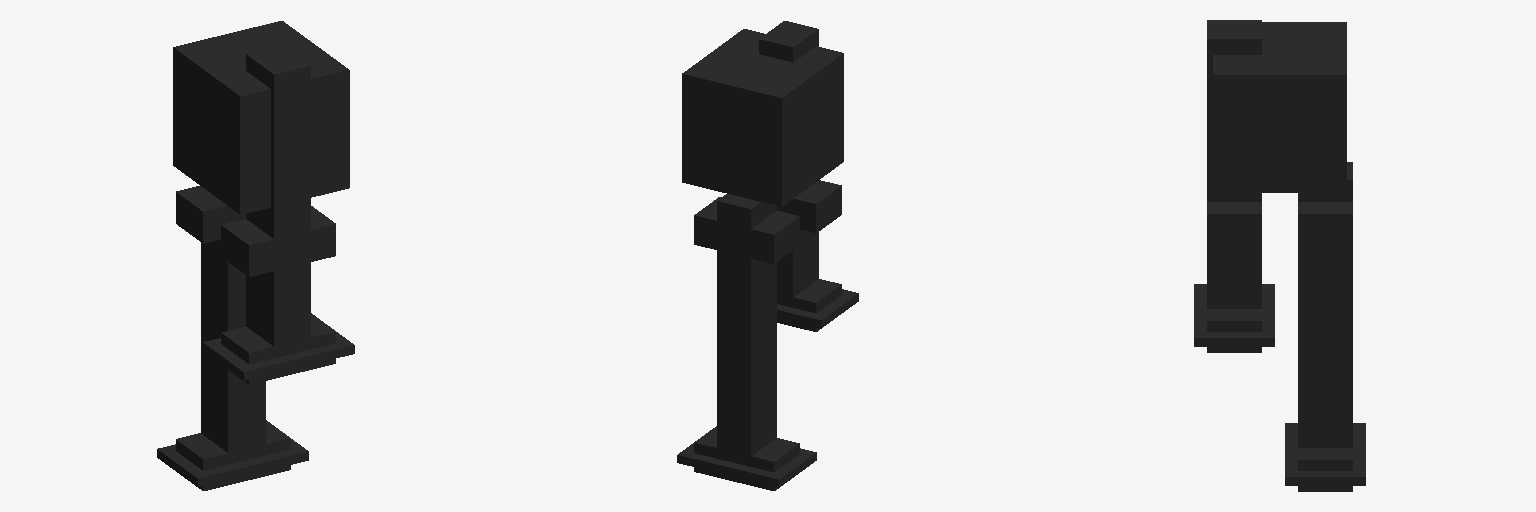
robot.urdf — darwinOP:
<?xml version="1.0" ?>
<robot name="darwinOP">
<link name="base_link"/>
  
  <joint name="base_link_to_body" type="fixed">
    <parent link="base_link"/>
    <child link="MP_BODY"/>
  </joint>



  <link name="MP_BODY">
    <inertial>
      <origin xyz="-0.003053 -0.038651 -0.019268" />
      <mass value="0.97559947"/>
      <inertia ixx="3.1081800"  ixy="-0.25460189"  ixz="2.0318174" iyy="6.3787776" iyz="0.16417863" izz="5.3316425" />
    </inertial>
    <visual>
      <!--origin xyz="-0.0235 0 -0.03525" rpy="0 0 0" /-->
      <origin xyz="0 0 0" rpy="0 0 0" />
      <geometry>
        <box size="0.102 0.109 0.106" />
      </geometry>
      <material name="Grey">
        <color rgba="0.20 0.20 0.20 1.0"/>
      </material>
    </visual>
    <collision>
      <geometry>
        <box size="0.102 0.109 0.106" />
      </geometry>
    </collision>
  </link>
  <link name="MP_PELVIS_L" >
    <inertial>
      <origin xyz="0.000000 0.000480 0.018437" />
      <mass value="0.167"/>
      <inertia ixx="0.12259691"  ixy="0.00071127469"  ixz="0.00081143913" iyx="0.00071127469" iyy="0.11066637" iyz="-0.0071635476" izx="0.00081143913" izy="-0.0071635476" izz="0.041877668" />
    </inertial>
    <visual>
      <origin xyz="0 0 0" rpy="0 0 0" />
      <geometry>
        <box size="0.045 0.08175 0.028652"/>
      </geometry>
      <material name="Grey">
        <color rgba="0.20 0.20 0.20 1.0"/>
      </material>
    </visual>
    <collision>
      <geometry>
        <box size="0.045 0.08175 0.028652"/>
      </geometry>
    </collision>
  </link>

  <link name="MP_THIGH1_L" >
    <inertial>
      <origin xyz="0.000079 0.018242 0.013873" />
      <mass value="0.11904336"/>
      <inertia ixx="0.097950272"  ixy="0.0012119368"  ixz="-0.00021223016" iyx="0.00122119368" iyy="0.032848287" iyz="-0.0019474021" izx="-0.00021223016" izy="-0.0019474021" izz="0.11493509" />
    </inertial>
    <visual>
      <origin xyz="0 0 0" rpy="0 0 0" />
      <geometry>
        <box size="0.001 0.001 0.001"/>
      </geometry>
      <material name="Grey">
        <color rgba="0.20 0.20 0.20 1.0"/>
      </material>
    </visual>
    <collision>
      <geometry>
        <box size="0.001 0.001 0.001"/>
      </geometry>
    </collision>
  </link>

  <link name="MP_THIGH2_L" >
    <inertial>
      <origin xyz="-0.062965 -0.000323 0.000692" />
      <mass value="0.11904336"/>
      <inertia ixx="0.097950272"  ixy="0.0012119368"  ixz="-0.00021223016" iyx="0.00122119368" iyy="0.032848287" iyz="-0.0019474021" izx="-0.00021223016" izy="-0.0019474021" izz="0.11493509" />
    </inertial>
    <visual>
      <origin xyz="0 0 0" rpy="0 0 0" />
      <geometry>
        <box size="0.125 0.035 0.045"/>
      </geometry>
      <material name="Grey">
        <color rgba="0.20 0.20 0.20 1.0"/>
      </material>
    </visual>
    <collision>
      <geometry>
        <box size="0.125 0.035 0.045"/>
      </geometry>
    </collision>
  </link>

  <link name="MP_TIBIA_L" >
    <inertial>
      <origin xyz="-0.053955 0.006548 -0.000592" />
      <mass value="0.070309794"/>
      <inertia ixx="0.093369608"  ixy="-0.00093567395"  ixz="-0.00023992085" iyx="-0.00093567395" iyy="0.046295534" iyz="-0.012858493" izx="-0.00023992085" izy="-0.012858493" izz="0.11351516" />
    </inertial>
    <visual>
      <origin xyz="-0.0625 0 0" rpy="0 0 0" />
      <geometry>
        <box size="0.130 0.035 0.045"/>
      </geometry>
      <material name="Grey">
        <color rgba="0.20 0.20 0.20 1.0"/>
      </material>
    </visual>
    <collision>
      <origin xyz="-0.0625 0 0" rpy="0 0 0" />
      <geometry>
        <box size="0.130 0.035 0.045"/>
      </geometry>
    </collision>
  </link>

  <link name="MP_ANKLE1_L" >
    <inertial>
      <origin xyz="-0.000214 -0.018536 0.013873" />
      <mass value="0.16710792"/>
      <inertia ixx="0.12079175"  ixy="-0.00079781067"  ixz="-0.00039322246" iyx="-0.00079781067" iyy="0.10885465" iyz="0.0070770117" izx="-0.00039322246" izy="0.0070770117" izz="0.041871103" />
    </inertial>
    <visual>
      <origin xyz="0 0 0" rpy="0 0 0" />
      <geometry>
        <box size="0.028652 0.08175 0.045"/>
      </geometry>
      <material name="Grey">
        <color rgba="0.20 0.20 0.20 1.0"/>
      </material>
    </visual>
    <collision>
      <geometry>
        <box size="0.028652 0.08175 0.045"/>
      </geometry>
    </collision>
  </link>

  <link name="MP_ANKLE2_L" >
    <inertial>
      <origin xyz="-0.025995 -0.009506 -0.000503" />
      <mass value="0.0794462"/>
      <inertia ixx="0.12079175"  ixy="-0.00079781067"  ixz="-0.00039322246" iyx="-0.00079781067" iyy="0.10885465" iyz="0.0070770117" izx="-0.00039322246" izy="0.0070770117" izz="0.041871103" />
    </inertial>
    <visual>
      <origin xyz="0 0 0" rpy="0 0 0" />
      <geometry>
        <box size="0.008 0.066 0.104"/>
      </geometry>
      <material name="Grey">
        <color rgba="0.20 0.20 0.20 1.0"/>
      </material>
    </visual>
    <collision>
      <geometry>
        <box size="0.008 0.066 0.104"/>
      </geometry>
    </collision>
  </link>

  <link name="MP_PELVIS_R" >
    <inertial>
      <origin xyz="0.000000 0.000480 0.018437" />
      <mass value="0.197"/>
      <inertia ixx="0.12259691"  ixy="0.00071127469"  ixz="0.00081143913" iyx="0.00071127469" iyy="0.11066637" iyz="-0.0071635476" izx="0.00081143913" izy="-0.0071635476" izz="0.041877668" />
    </inertial>
    <visual>
      <origin xyz="0 0 0" rpy="0 0 0" />
      <geometry>
        <box size="0.045 0.08175 0.028652" />
      </geometry>
      <material name="Grey">
        <color rgba="0.20 0.20 0.20 1.0"/>
      </material>
    </visual>
    <collision>
      <geometry>
        <box size="0.045 0.08175 0.028652" />
      </geometry>
    </collision>
  </link>

  <link name="MP_THIGH1_R" >
    <inertial>
      <origin xyz="0.000079 -0.018242 0.0138735" />
      <mass value="0.11904336"/>
      <inertia ixx="0.097950272"  ixy="0.0012119368"  ixz="-0.00021223016" iyx="0.00122119368" iyy="0.032848287" iyz="-0.0019474021" izx="-0.00021223016" izy="-0.0019474021" izz="0.11493509" />
    </inertial>
    <visual>
      <origin xyz="0 0 0" rpy="0 0 0" />
      <geometry>
        <box size="0.001 0.001 0.001"/>
      </geometry>
      <material name="Grey">
        <color rgba="0.20 0.20 0.20 1.0"/>
      </material>
    </visual>
    <collision>
      <geometry>
        <box size="0.001 0.001 0.001"/>
      </geometry>
    </collision>

  </link>

  <link name="MP_THIGH2_R" >
    <inertial>
      <origin xyz="0.062965 -0.000323 0.000692" />
      <mass value="0.11904336"/>
      <inertia ixx="0.097950272"  ixy="0.0012119368"  ixz="-0.00021223016" iyx="0.00122119368" iyy="0.032848287" iyz="-0.0019474021" izx="-0.00021223016" izy="-0.0019474021" izz="0.11493509" />
    </inertial>
    <visual>
      <origin xyz="0 0 0" rpy="0 0 0" />
      <geometry>
        <box size="0.125 0.035 0.045"/>
      </geometry>
      <material name="Grey">
        <color rgba="0.20 0.20 0.20 1.0"/>
      </material>
    </visual>
    <collision>
      <geometry>
        <box size="0.125 0.035 0.045"/>
      </geometry>
    </collision>

  </link>

  <link name="MP_TIBIA_R" >
    <inertial>
      <origin xyz="0.053955 0.006548 -0.000592" />
      <mass value="0.070309794"/>
      <inertia ixx="0.093369608"  ixy="-0.00093567395"  ixz="-0.00023992085" iyx="-0.00093567395" iyy="0.046295534" iyz="-0.012858493" izx="-0.00023992085" izy="-0.012858493" izz="0.11351516" />
    </inertial>
    <visual>
      <origin xyz="-0.0625 0 0" rpy="0 0 0" />
      <geometry>
        <box size="0.130 0.035 0.045"/>
      </geometry>
      <material name="Grey">
        <color rgba="0.20 0.20 0.20 1.0"/>
      </material>
    </visual>
    <collision>
    <origin xyz="-0.0625 0 0" rpy="0 0 0" />
      <geometry>
        <box size="0.130 0.035 0.045"/>
      </geometry>
    </collision>

  </link>

  <link name="MP_ANKLE1_R" >
    <inertial>
      <origin xyz="-0.000214 -0.018536 -0.013873" />
      <mass value="0.16710792"/>
      <inertia ixx="0.12079175"  ixy="-0.00079781067"  ixz="-0.00039322246" iyx="-0.00079781067" iyy="0.10885465" iyz="0.0070770117" izx="-0.00039322246" izy="0.0070770117" izz="0.041871103" />
    </inertial>
    <visual>
      <origin xyz="0 0 0" rpy="0 0 0" />
      <geometry>
        <box size="0.028652 0.08175 0.045"/>
      </geometry>
      <material name="Grey">
        <color rgba="0.20 0.20 0.20 1.0"/>
      </material>
    </visual>
    <collision>
      <geometry>
        <box size="0.028652 0.08175 0.045"/>
      </geometry>
    </collision>

  </link>

  <link name="MP_ANKLE2_R" >
    <inertial>
      <origin xyz="0.025995 -0.009506 -0.000503" />
      <mass value="0.0794462"/>
      <inertia ixx="0.12079175"  ixy="-0.00079781067"  ixz="-0.00039322246" iyx="-0.00079781067" iyy="0.10885465" iyz="0.0070770117" izx="-0.00039322246" izy="0.0070770117" izz="0.041871103" />
    </inertial>
    <visual>
      <origin xyz="0 0 0" rpy="0 0 0" />
      <geometry>
        <box size="0.008 0.066 0.104"/>
      </geometry>
      <material name="Grey">
        <color rgba="0.20 0.20 0.20 1.0"/>
      </material>
    </visual>
    <collision>
      <geometry>
        <box size="0.008 0.066 0.104"/>
      </geometry>
    </collision>

  </link>
  
  <joint name="j_pelvis_l" type="revolute">
    <parent link="MP_BODY"/>
    <child link="MP_PELVIS_L"/>
    <origin xyz="-0.005 0.037 -0.09355" rpy="0 3.14159 -1.5707963" />
    <axis xyz="0 0 1" />
    <limit effort="10" velocity="5.6548668" lower="-2.6179939" upper="2.6179939" />
  </joint>
    <joint name="j_thigh1_l" type="revolute">
    <parent link="MP_PELVIS_L"/>
    <child link="MP_THIGH1_L"/>
    <origin xyz="0 0 0.028652" rpy="1.5707963 0 0" />
    <axis xyz="0 0 1" />
    <limit effort="10" velocity="5.6548668" lower="-2.6179939" upper="2.6179939" />
  </joint>

  <joint name="j_thigh2_l" type="revolute">
    <parent link="MP_THIGH1_L"/>
    <child link="MP_THIGH2_L"/>
    <origin xyz="0 0 0" rpy="1.5707963 0 -1.5707963" />
    <axis xyz="0 0 1" />
    <limit effort="10" velocity="5.6548668" lower="-2.6179939" upper="2.6179939" />
  </joint>

  <joint name="j_tibia_l" type="revolute">
    <parent link="MP_THIGH2_L"/>
    <child link="MP_TIBIA_L"/>
    <origin xyz="-0.0625 0 0" rpy="0 0 0" />
    <axis xyz="0 0 1" />
    <limit effort="10" velocity="5.6548668" lower="-2.6179939" upper="2.6179939" />
  </joint>

  <joint name="j_ankle1_l" type="revolute">
    <parent link="MP_TIBIA_L"/>
    <child link="MP_ANKLE1_L"/>
    <origin xyz="-0.130 0 0" rpy="3.14159 0 0" />
    <axis xyz="0 0 1" />
    <limit effort="10" velocity="5.6548668" lower="-2.6179939" upper="2.6179939" />
  </joint>

  <joint name="j_ankle2_l" type="revolute">
    <parent link="MP_ANKLE1_L"/>
    <child link="MP_ANKLE2_L"/>
    <origin xyz="0 0 0" rpy="-1.5707963 0 0" />
    <axis xyz="0 0 1" />
    <limit effort="10" velocity="5.6548668" lower="-2.6179939" upper="2.6179939" />
  </joint>

  <joint name="j_pelvis_r" type="revolute">
    <parent link="MP_BODY"/>
    <child link="MP_PELVIS_R"/>
    <origin xyz="-0.005 -0.037 -0.09355" rpy="0 3.14159 1.5707963" />
    <axis xyz="0 0 1" />
    <limit effort="10" velocity="5.6548668" lower="-2.6179939" upper="2.6179939" />
  </joint>

  <joint name="j_thigh1_r" type="revolute">
    <parent link="MP_PELVIS_R"/>
    <child link="MP_THIGH1_R"/>
    <origin xyz="0 0 0.028652" rpy="-1.5707963 0 0" />
    <axis xyz="0 0 1" />
    <limit effort="10" velocity="5.6548668" lower="-2.6179939" upper="2.6179939" />
  </joint>

  <joint name="j_thigh2_r" type="revolute">
    <parent link="MP_THIGH1_R"/>
    <child link="MP_THIGH2_R"/>
    <origin xyz="0 0 0" rpy="1.5707963 0 -1.5707963" />
    <axis xyz="0 0 1" />
    <limit effort="10" velocity="5.6548668" lower="-2.6179939" upper="2.6179939" />
  </joint>

  <joint name="j_tibia_r" type="revolute">
    <parent link="MP_THIGH2_R"/>
    <child link="MP_TIBIA_R"/>
    <origin xyz="-0.0625 0 0" rpy="0 0 0" />
    <axis xyz="0 0 1" />
    <limit effort="10" velocity="5.6548668" lower="-2.6179939" upper="2.6179939" />
  </joint>

  <joint name="j_ankle1_r" type="revolute">
    <parent link="MP_TIBIA_R"/>
    <child link="MP_ANKLE1_R"/>
    <origin xyz="0.130 0 0" rpy="3.14159 0 0" />
    <axis xyz="0 0 1" />
    <limit effort="10" velocity="5.6548668" lower="-2.6179939" upper="2.6179939" />
  </joint>

  <joint name="j_ankle2_r" type="revolute">
    <parent link="MP_ANKLE1_R"/>
    <child link="MP_ANKLE2_R"/>
    <origin xyz="0 0 0" rpy="-1.5707963 0 0" />
    <axis xyz="0 0 1" />
    <limit effort="10" velocity="5.6548668" lower="-2.6179939" upper="2.6179939" />
  </joint>

</robot>

--- What the picture shows (computed from the rendered views, not written in the file) ---
The picture shows the robot from 3 angles, left to right: view 1: azimuth 30°, elevation 25°; view 2: azimuth 150°, elevation 25°; view 3: azimuth 270°, elevation 25°; orthographic projection.
Robot: darwinOP — 14 links, 13 joints (12 revolute, 1 fixed); root link base_link; default pose: all joints at 0.
Visible links, largest first — view 1: MP_BODY, MP_TIBIA_R, MP_THIGH2_R, MP_TIBIA_L, MP_PELVIS_R, MP_THIGH2_L, MP_ANKLE1_R, MP_ANKLE2_R, MP_ANKLE2_L, MP_ANKLE1_L, MP_PELVIS_L; view 2: MP_BODY, MP_TIBIA_L, MP_THIGH2_L, MP_PELVIS_L, MP_ANKLE1_L, MP_ANKLE2_L, MP_THIGH2_R, MP_PELVIS_R, MP_TIBIA_R, MP_ANKLE1_R, MP_ANKLE2_R; view 3: MP_BODY, MP_TIBIA_L, MP_THIGH2_L, MP_THIGH2_R, MP_TIBIA_R, MP_ANKLE2_L, MP_ANKLE2_R, MP_PELVIS_L, MP_PELVIS_R, MP_ANKLE1_L, MP_ANKLE1_R.
Link boxes in pixels (bbox=[...]): MP_BODY: bbox=[173, 21, 349, 214]; MP_TIBIA_R: bbox=[246, 45, 310, 219]; MP_THIGH2_R: bbox=[246, 208, 310, 352]; MP_TIBIA_L: bbox=[201, 304, 265, 464]; MP_PELVIS_R: bbox=[221, 206, 335, 276]; MP_THIGH2_L: bbox=[201, 208, 245, 322]; MP_ANKLE1_R: bbox=[221, 313, 335, 384]; MP_ANKLE2_R: bbox=[203, 315, 354, 380]; MP_ANKLE2_L: bbox=[157, 422, 308, 486]; MP_ANKLE1_L: bbox=[176, 420, 290, 490]; MP_PELVIS_L: bbox=[176, 186, 245, 243]; MP_BODY: bbox=[682, 29, 843, 206]; MP_TIBIA_L: bbox=[717, 317, 776, 461]; MP_THIGH2_L: bbox=[717, 194, 776, 337]; MP_PELVIS_L: bbox=[694, 197, 799, 263]; MP_ANKLE1_L: bbox=[694, 426, 799, 490]; MP_ANKLE2_L: bbox=[677, 430, 816, 487]; MP_THIGH2_R: bbox=[777, 230, 818, 306]; MP_PELVIS_R: bbox=[777, 180, 841, 233]; MP_TIBIA_R: bbox=[759, 21, 818, 62]; MP_ANKLE1_R: bbox=[777, 279, 841, 331]; MP_ANKLE2_R: bbox=[777, 289, 858, 328]; MP_BODY: bbox=[1213, 22, 1346, 192]; MP_TIBIA_L: bbox=[1298, 316, 1352, 447]; MP_THIGH2_L: bbox=[1298, 162, 1352, 318]; MP_THIGH2_R: bbox=[1207, 183, 1261, 308]; MP_TIBIA_R: bbox=[1207, 20, 1261, 182]; MP_ANKLE2_L: bbox=[1285, 423, 1365, 485]; MP_ANKLE2_R: bbox=[1194, 284, 1274, 346]; MP_PELVIS_L: bbox=[1298, 202, 1352, 245]; MP_PELVIS_R: bbox=[1207, 202, 1261, 245]; MP_ANKLE1_L: bbox=[1298, 448, 1352, 491]; MP_ANKLE1_R: bbox=[1207, 309, 1261, 352].
Size in the robot's own frame: 0.108 by 0.14 by 0.3968 metres.
Geometry: primitives only (box / cylinder / sphere), no mesh files.